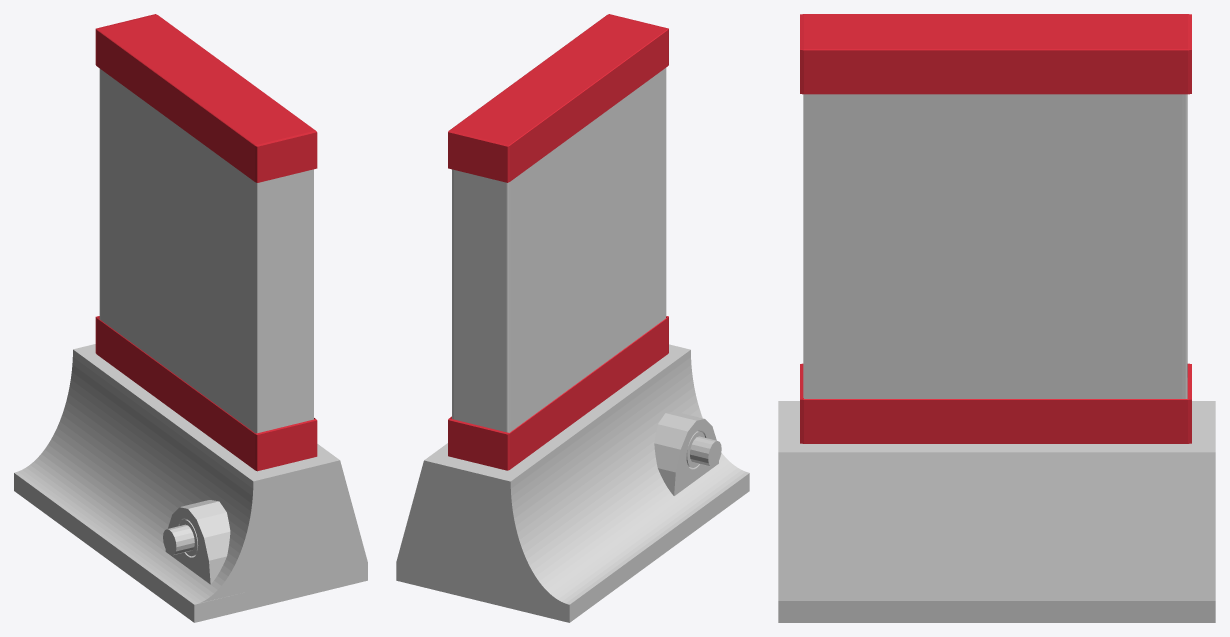
The model's file is water.fbx.
3 views of the same model, side by side, from view 1: azimuth 30°, elevation 25°; view 2: azimuth 150°, elevation 25°; view 3: azimuth 270°, elevation 25° (orthographic). The views are drawn at different scales.
Visible parts, largest first — view 1: Caja, Cube.002, Cube.001, Cube, Cylinder, Cylinder.001; view 2: Caja, Cube.002, Cube.001, Cube, Cylinder, Cylinder.001; view 3: Caja, Cube.002, Cube.001, Cube.
Part boxes in pixels (box(x1,y1,x2,y2)): Caja: box(99, 69, 313, 433); Cube.002: box(14, 344, 367, 622); Cube.001: box(95, 14, 317, 182); Cube: box(95, 316, 317, 471); Cylinder: box(165, 500, 230, 584); Cylinder.001: box(163, 524, 194, 555); Caja: box(452, 68, 666, 432); Cube.002: box(396, 344, 749, 622); Cube.001: box(448, 14, 668, 182); Cube: box(448, 316, 668, 470); Cylinder: box(654, 411, 718, 495); Cylinder.001: box(690, 436, 721, 467); Caja: box(803, 94, 1187, 398); Cube.002: box(778, 401, 1215, 622); Cube.001: box(800, 14, 1191, 94); Cube: box(800, 363, 1191, 443).
Bounding box in the file's own units: 1000 × 2490 × 1800.
